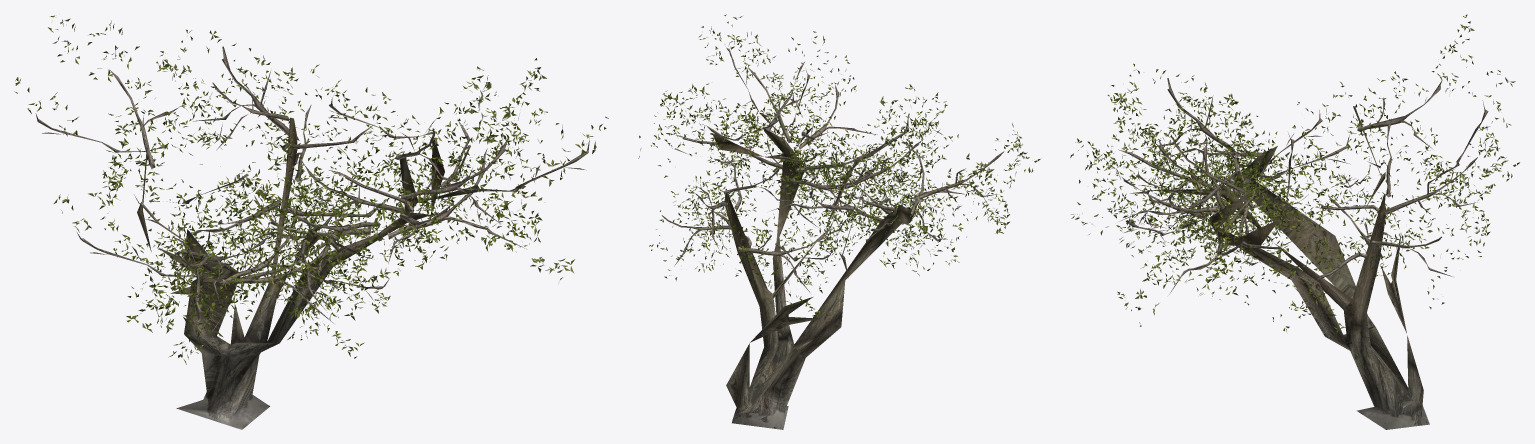
The model's file is island_tree_02.glb.
3 views of the same model, side by side, from view 1: azimuth 30°, elevation 25°; view 2: azimuth 150°, elevation 25°; view 3: azimuth 270°, elevation 25° (orthographic). The views are drawn at different scales.
Visible parts, largest first — view 1: island_tree_02_LOD0; view 2: island_tree_02_LOD0; view 3: island_tree_02_LOD0.
Part boxes in pixels (x1=…): island_tree_02_LOD0: x1=14, y1=15, x2=608, y2=429; island_tree_02_LOD0: x1=638, y1=14, x2=1040, y2=429; island_tree_02_LOD0: x1=1070, y1=14, x2=1519, y2=429.
Bounding box in the file's own units: 3.77 × 3.4 × 4.03.
Materials: 3 (3 with a texture image).
